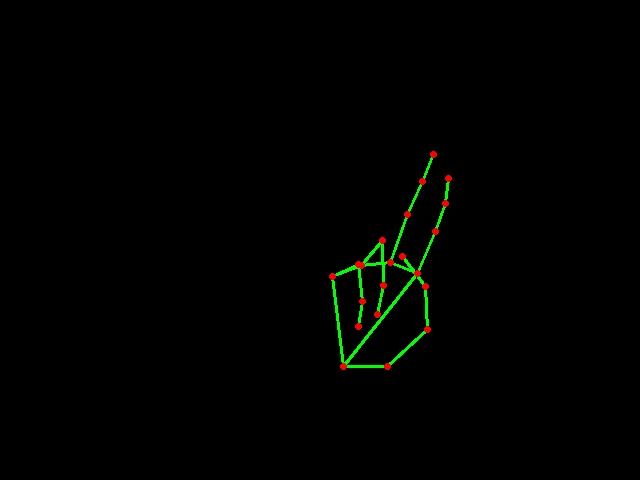forward: (316, 139, 471, 381)
